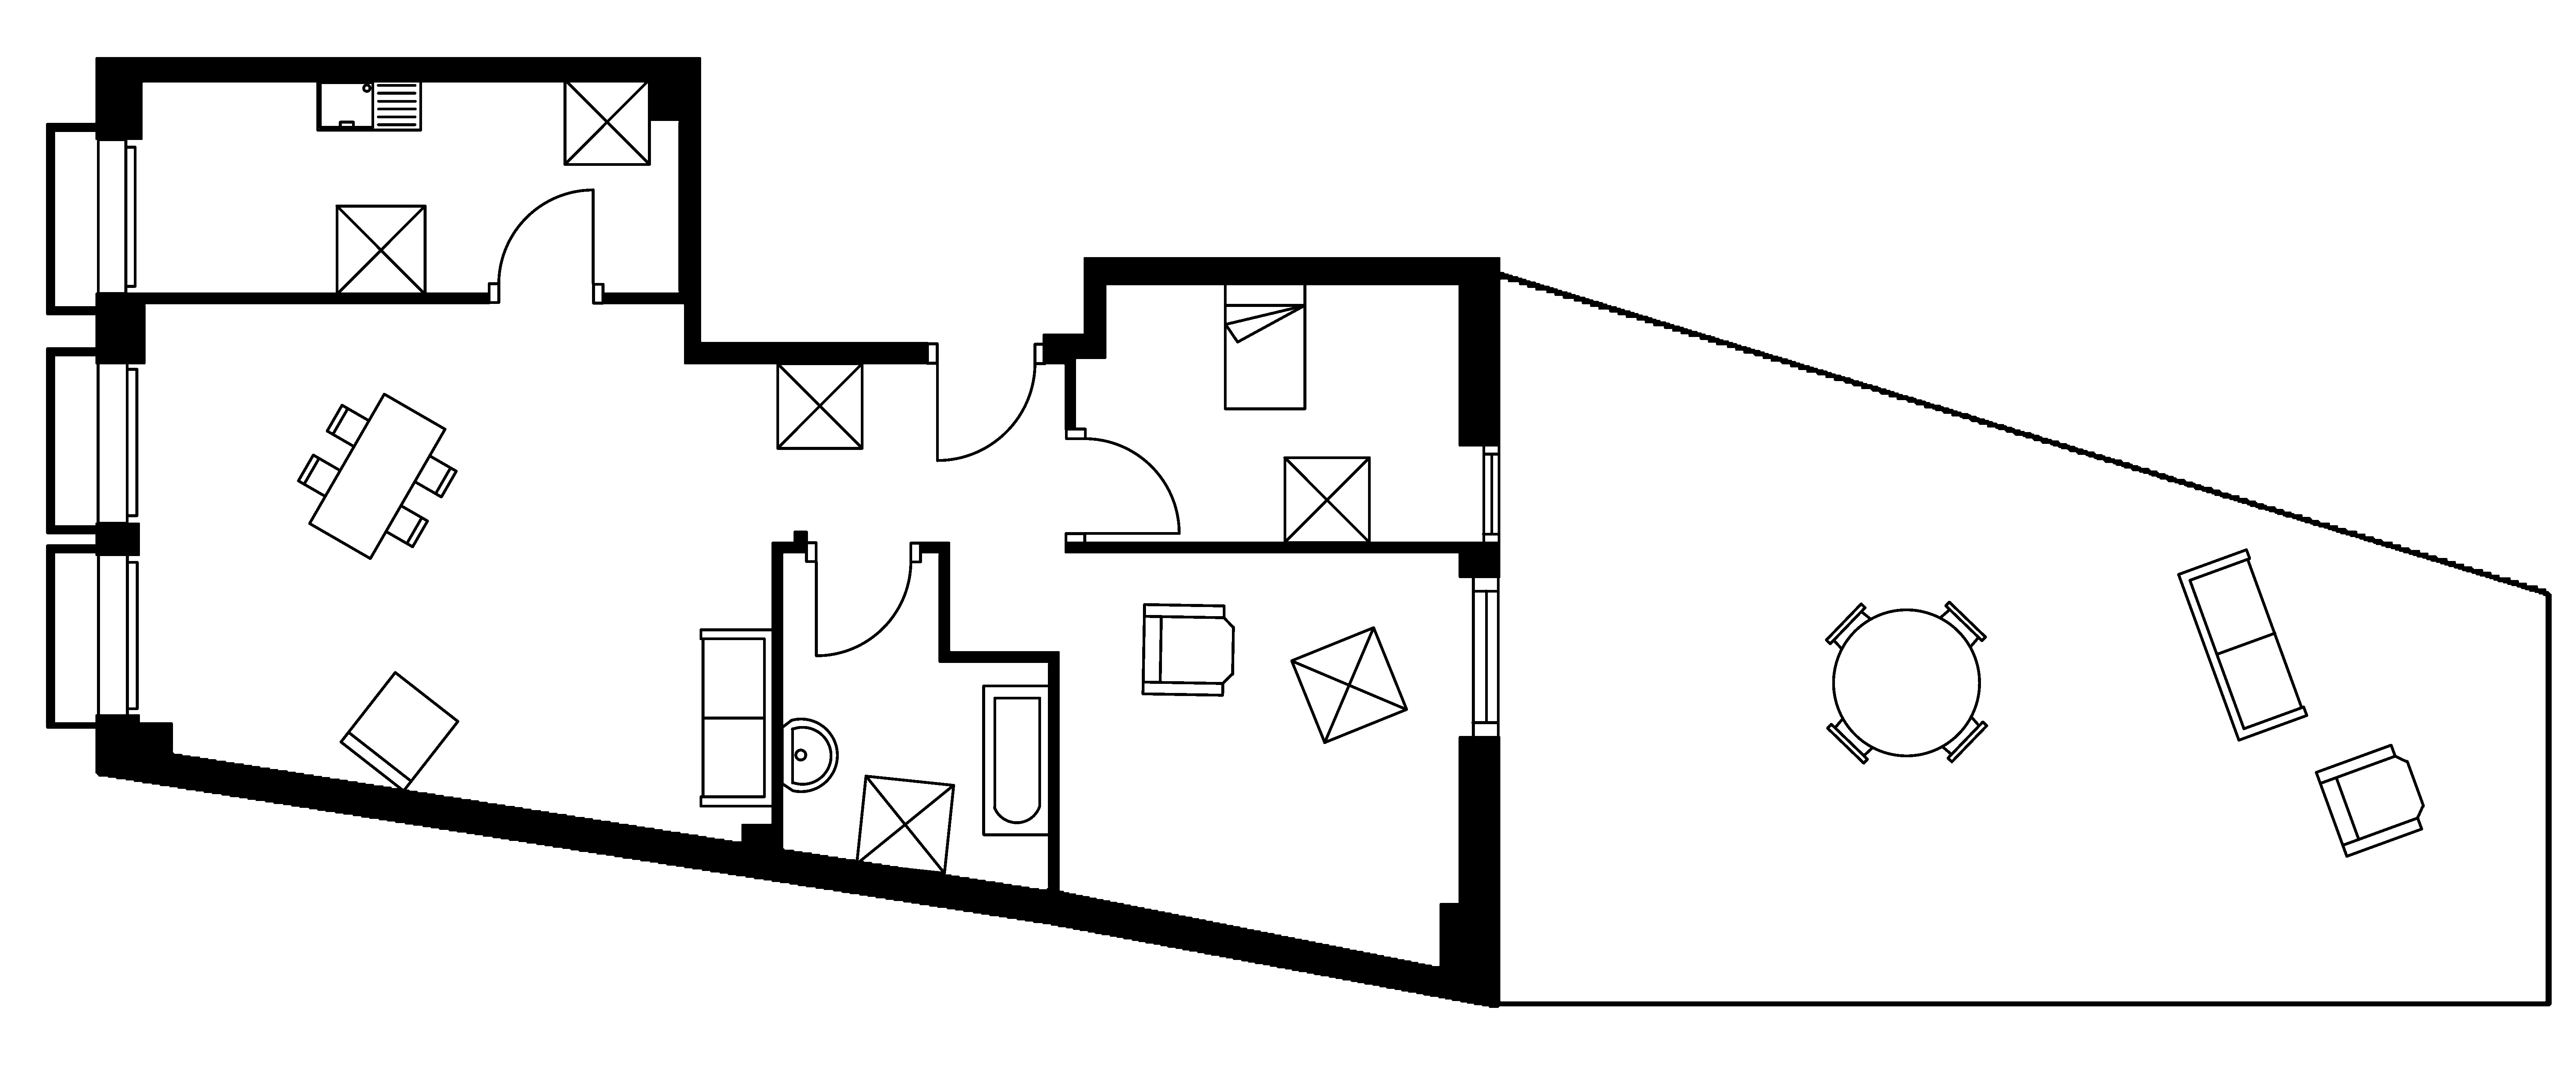armchair: (2315, 743, 2425, 858), (1140, 602, 1235, 697)
bed: (1222, 281, 1306, 411)
coffee_table: (1290, 625, 1408, 745), (854, 773, 954, 875), (335, 204, 427, 296), (562, 77, 651, 166), (775, 362, 864, 451), (1283, 456, 1372, 544)
dining_table: (296, 391, 458, 561)
large_sofa: (2177, 548, 2308, 742), (698, 628, 774, 807)
round_table: (1824, 600, 1988, 765)
sink: (315, 77, 422, 132)
small_sink: (780, 717, 838, 793)
small_sofa: (338, 671, 460, 793)
tub: (981, 684, 1051, 837)
